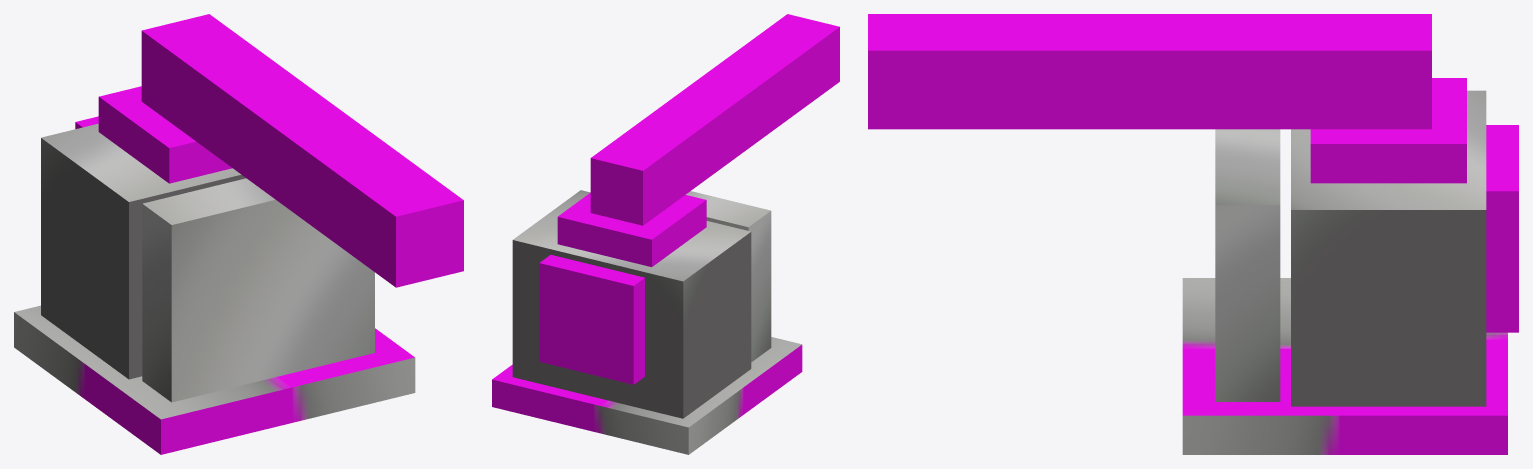
Rendered from sprayer.obj.
The picture shows the model from 3 angles, left to right: view 1: azimuth 30°, elevation 25°; view 2: azimuth 150°, elevation 25°; view 3: azimuth 270°, elevation 25°; orthographic projection. The views are drawn at different scales.
Visible parts, largest first — view 1: Sprayer_spmdl, Center_pcmdl, Tank_tmdl, Baseplate_pmdl; view 2: Tank_tmdl, Center_pcmdl, Sprayer_spmdl, Baseplate_pmdl; view 3: Center_pcmdl, Tank_tmdl, Sprayer_spmdl, Baseplate_pmdl.
Part boxes in pixels (bbox=[...]): Sprayer_spmdl: bbox=[75, 86, 374, 402]; Center_pcmdl: bbox=[141, 14, 463, 287]; Tank_tmdl: bbox=[41, 123, 245, 379]; Baseplate_pmdl: bbox=[14, 305, 415, 454]; Tank_tmdl: bbox=[512, 190, 751, 418]; Center_pcmdl: bbox=[590, 14, 839, 225]; Sprayer_spmdl: bbox=[539, 191, 771, 384]; Baseplate_pmdl: bbox=[492, 337, 802, 454]; Center_pcmdl: bbox=[868, 14, 1431, 129]; Tank_tmdl: bbox=[1291, 90, 1486, 406]; Sprayer_spmdl: bbox=[1215, 78, 1518, 401]; Baseplate_pmdl: bbox=[1182, 278, 1507, 454].
Size of the model in its own units: 0.9375 by 1.12 by 1.88.
